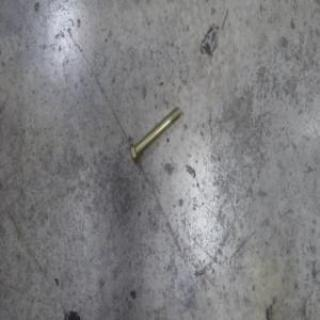Bolttrack_idkeyframe: (128, 103, 181, 164)
